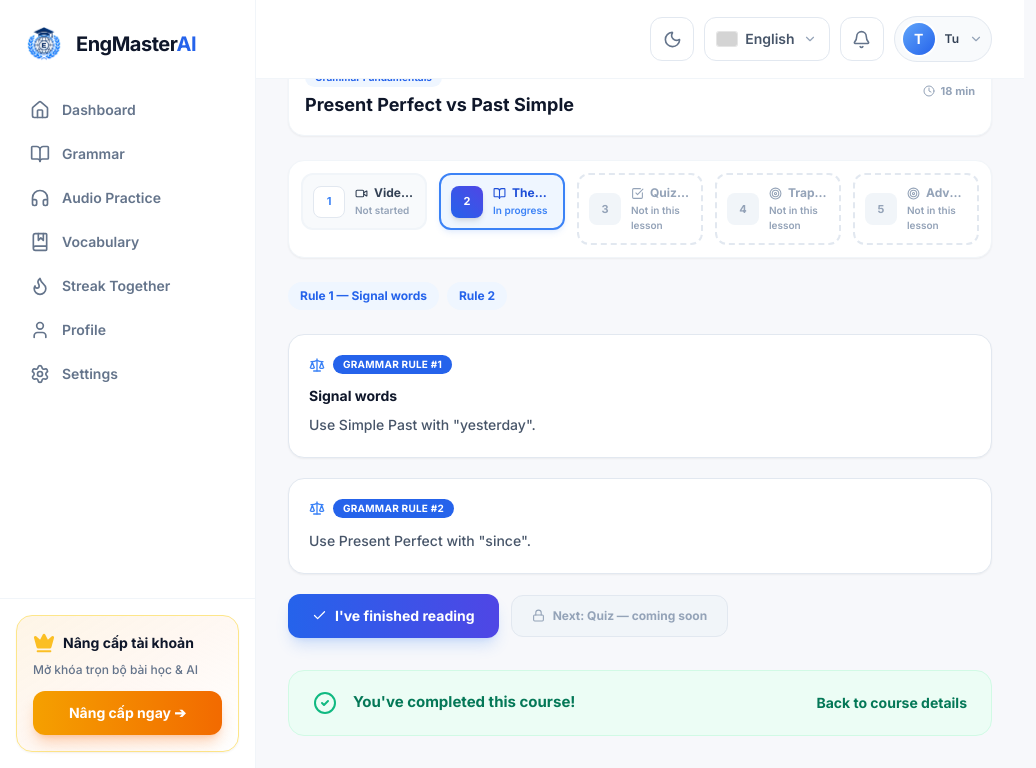
Test case: LessonPage — Grammar staged player › marks the theory stage complete only after an explicit action
(page scrolled)
Expected: the text "Use Simple Past with \"yesterday\"." is shown, [309,416,536,433]
Expected: the text "Theory marked as read" is not shown
What coordinates should you click on to do the following:
click the button "I've finished reading"
I would click on:
 (393, 616)
Its box is [288,594,499,638].
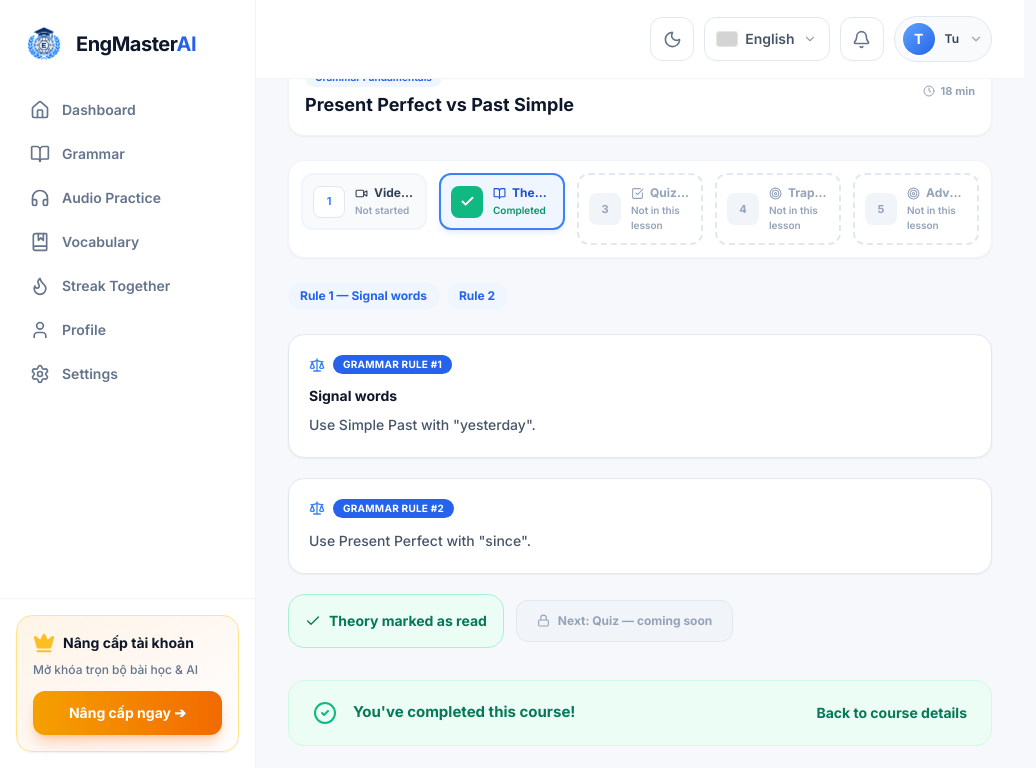
Expected: the text "Theory marked as read" is shown, [329,610,487,630]
